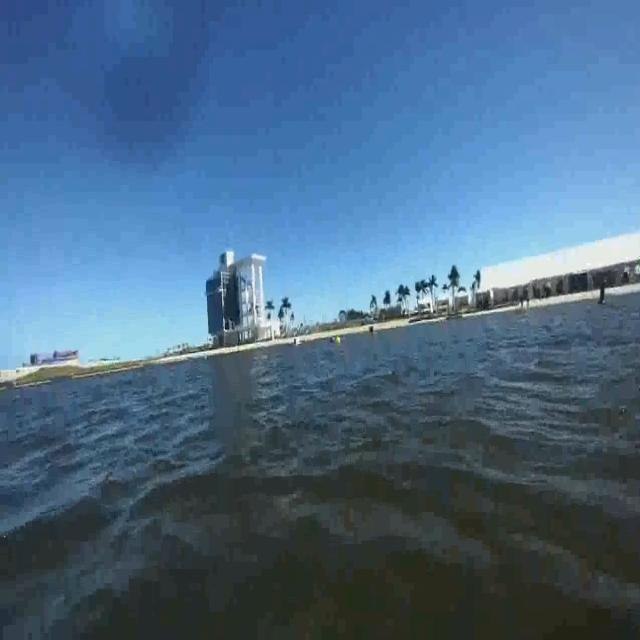yellow-buoy: (337, 336, 343, 347)
